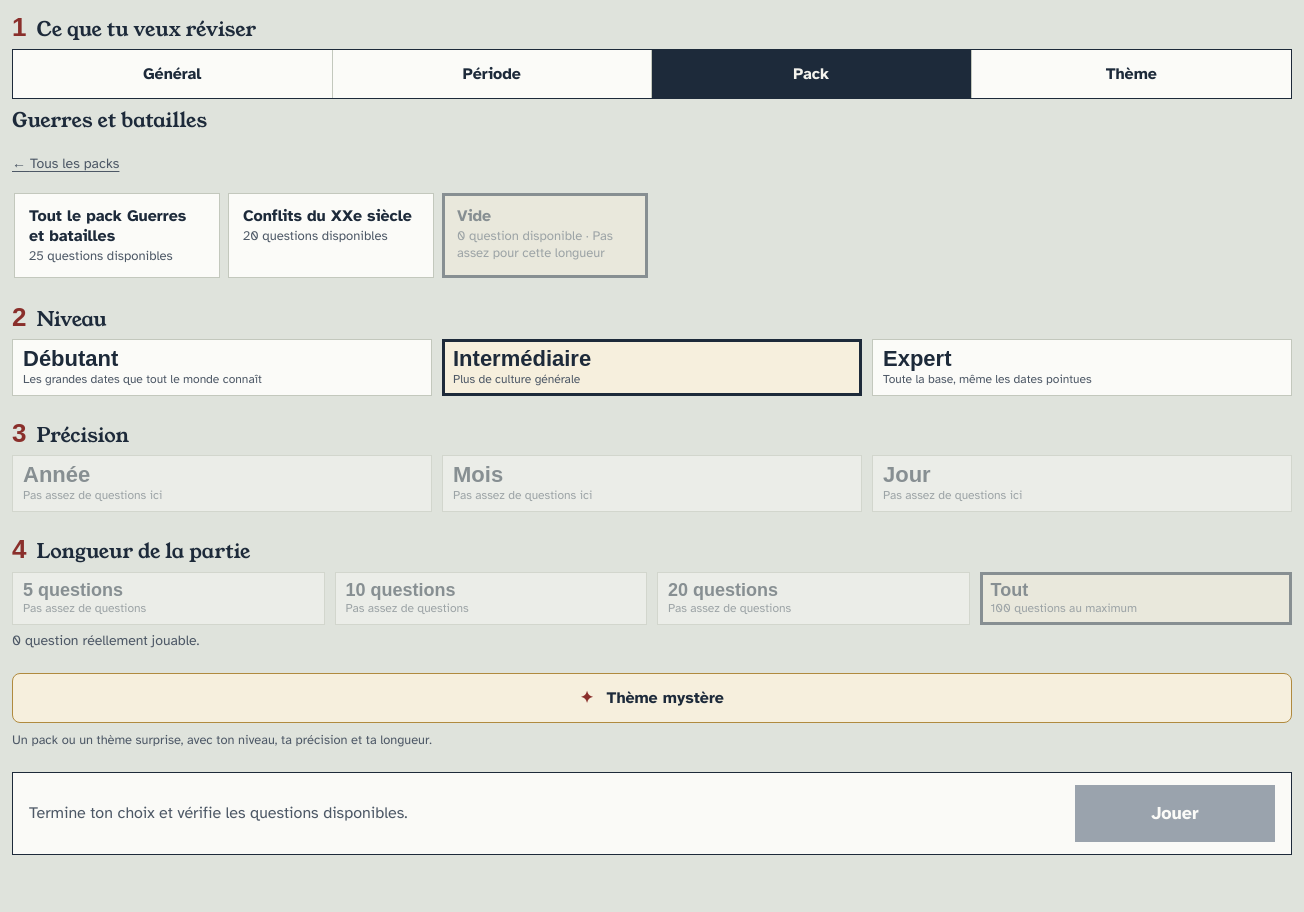
Test: garde un sous-pack présent avec 0 questions, désactive Jouer et permet le retour
The width and height of the screenshot is (1304, 912).
Check: the button "Vide 0 question disponible · Pas assez pour cette longueur" is shown, box 442,193 -> 648,278
Check: the button "Jouer" is disabled, box 1075,785 -> 1275,842
Click the button "← Tous les packs". click: [66, 163]
box: 12,141 -> 119,185
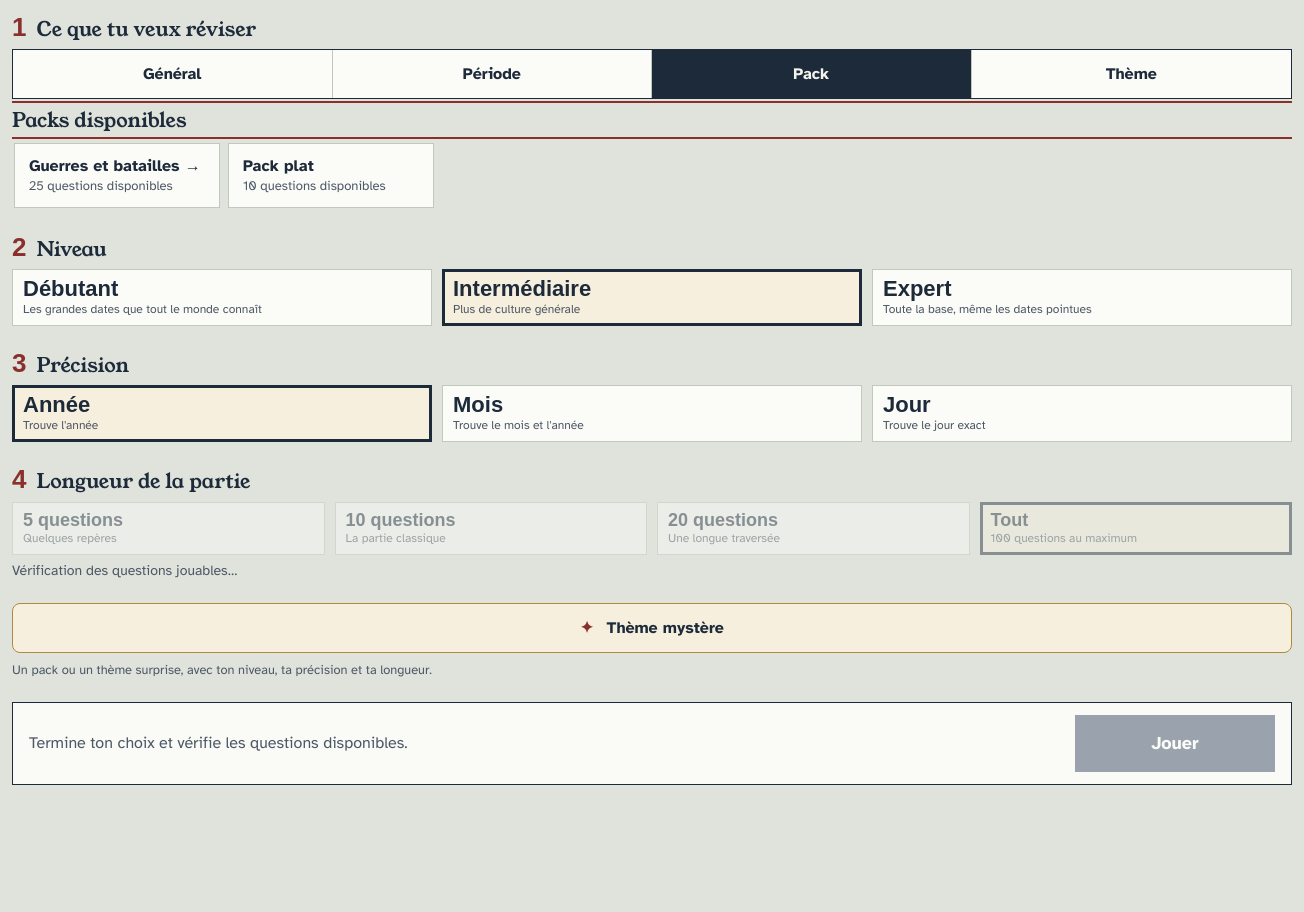
Click the button "Pack plat 10 questions disponibles". click: [331, 176]
box: 228,143 -> 434,208
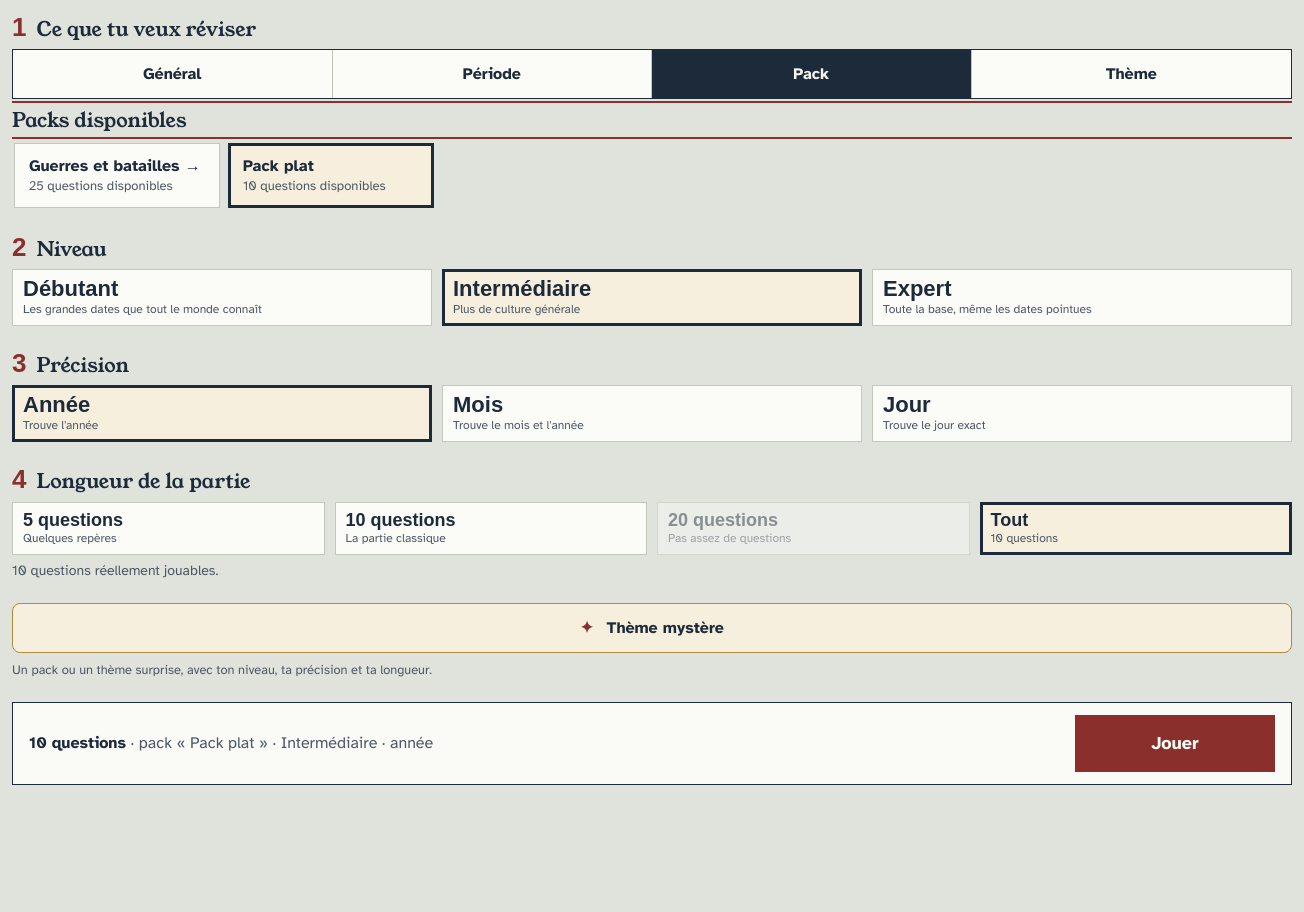
Check: the button "Jouer" is enabled, box 1075,715 -> 1275,772
